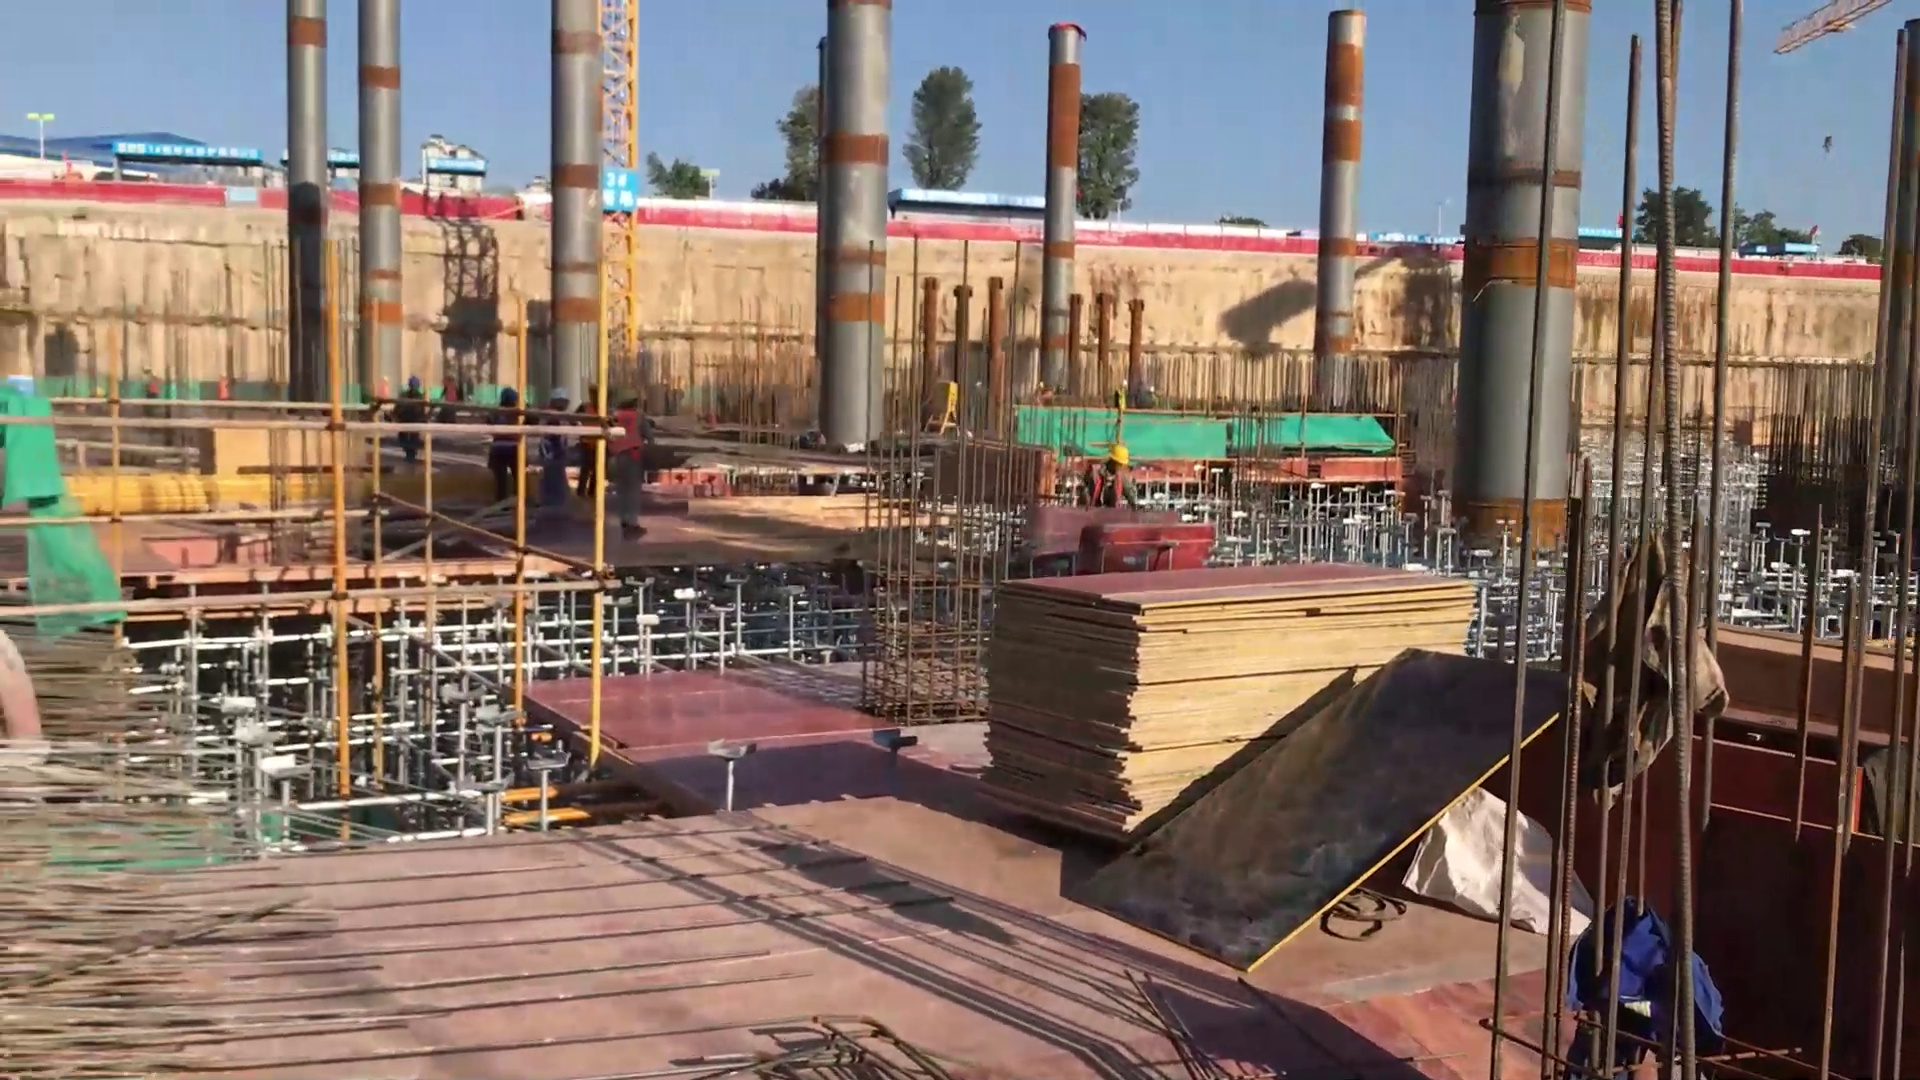helmet: (1103, 441, 1134, 470), (615, 386, 641, 408)
person: (607, 384, 662, 541), (1070, 440, 1148, 514)
vest: (1086, 462, 1127, 507), (614, 412, 647, 461)
